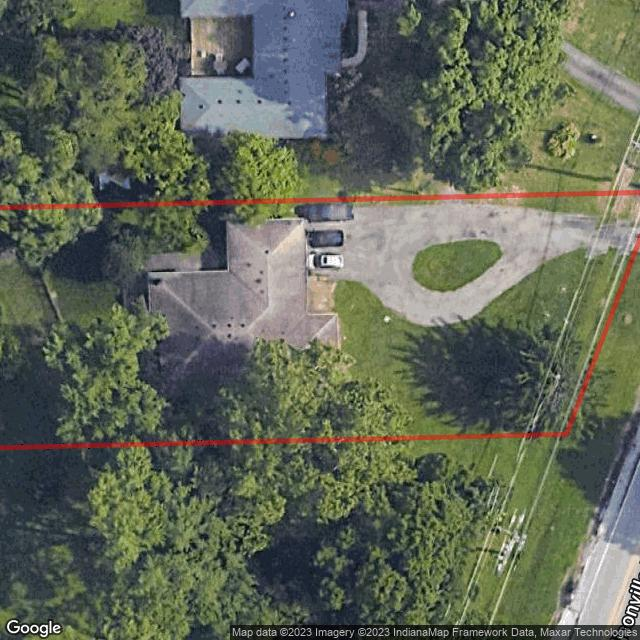Driveway: (305, 202, 639, 328), (146, 253, 228, 272)
Extra Lawn: (570, 255, 638, 440), (416, 240, 505, 293), (58, 0, 179, 28)
House: (148, 218, 340, 409)
Sidewalk: (308, 275, 337, 315)
